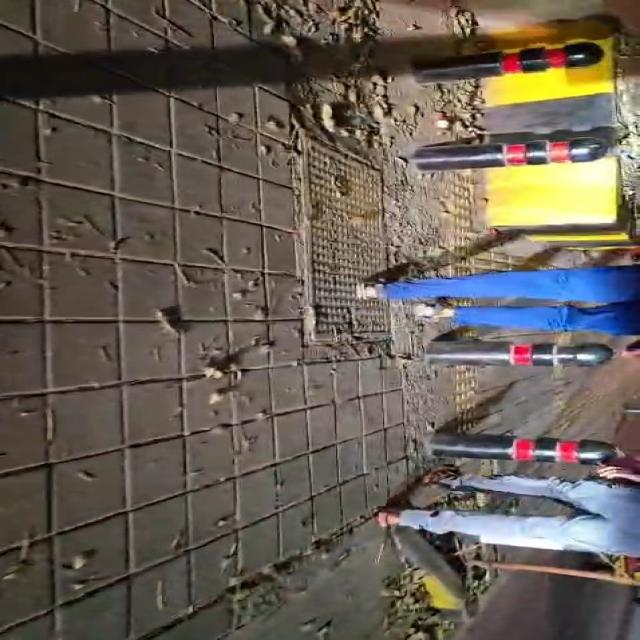bench: (414, 41, 603, 84), (408, 137, 609, 171), (428, 433, 617, 464), (424, 340, 614, 366)
bike: (377, 457, 639, 557), (359, 265, 639, 335), (303, 139, 389, 341)
